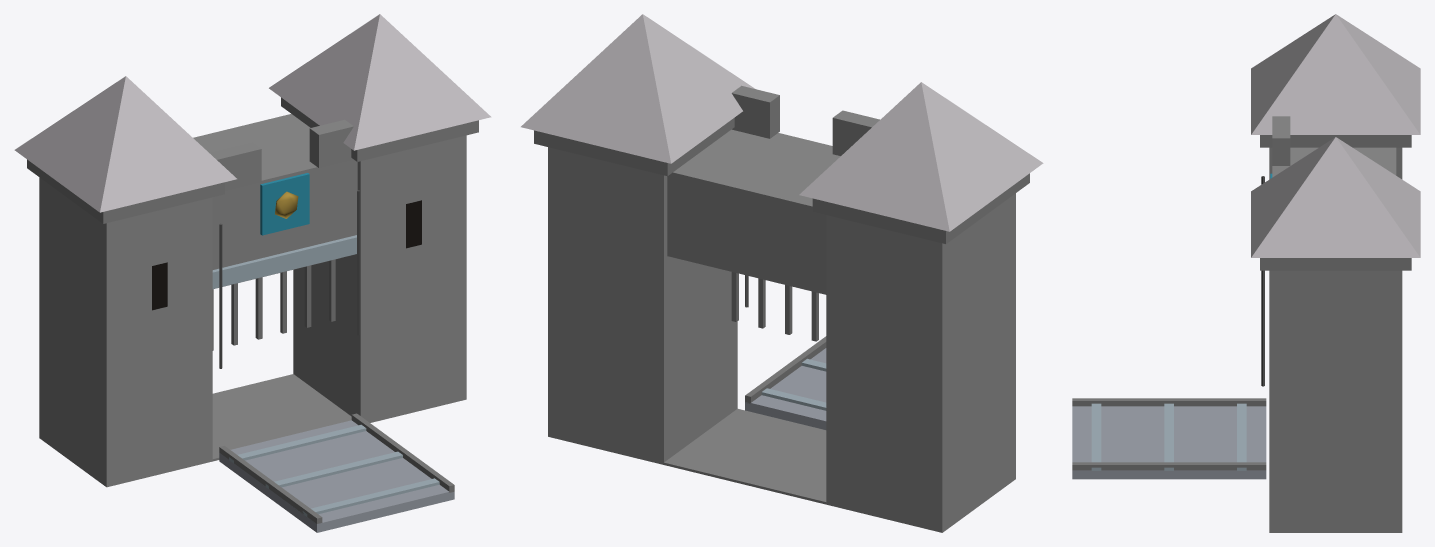
The model's file is gatehouse.glb.
The picture shows the model from 3 angles, left to right: view 1: azimuth 30°, elevation 25°; view 2: azimuth 150°, elevation 25°; view 3: azimuth 270°, elevation 25°; orthographic projection. The views are drawn at different scales.
Visible parts, largest first — view 1: gatehouse, Spin_Bridge; view 2: gatehouse, Spin_Bridge; view 3: gatehouse, Spin_Bridge.
Part boxes in pixels (box(x1,y1,x2,y2)): gatehouse: box(14, 14, 491, 487); Spin_Bridge: box(219, 413, 454, 532); gatehouse: box(521, 14, 1043, 532); Spin_Bridge: box(745, 336, 826, 429); gatehouse: box(1251, 14, 1420, 532); Spin_Bridge: box(1072, 398, 1266, 479).
Size of the model in its own units: 7.4 by 6.75 by 5.75.
